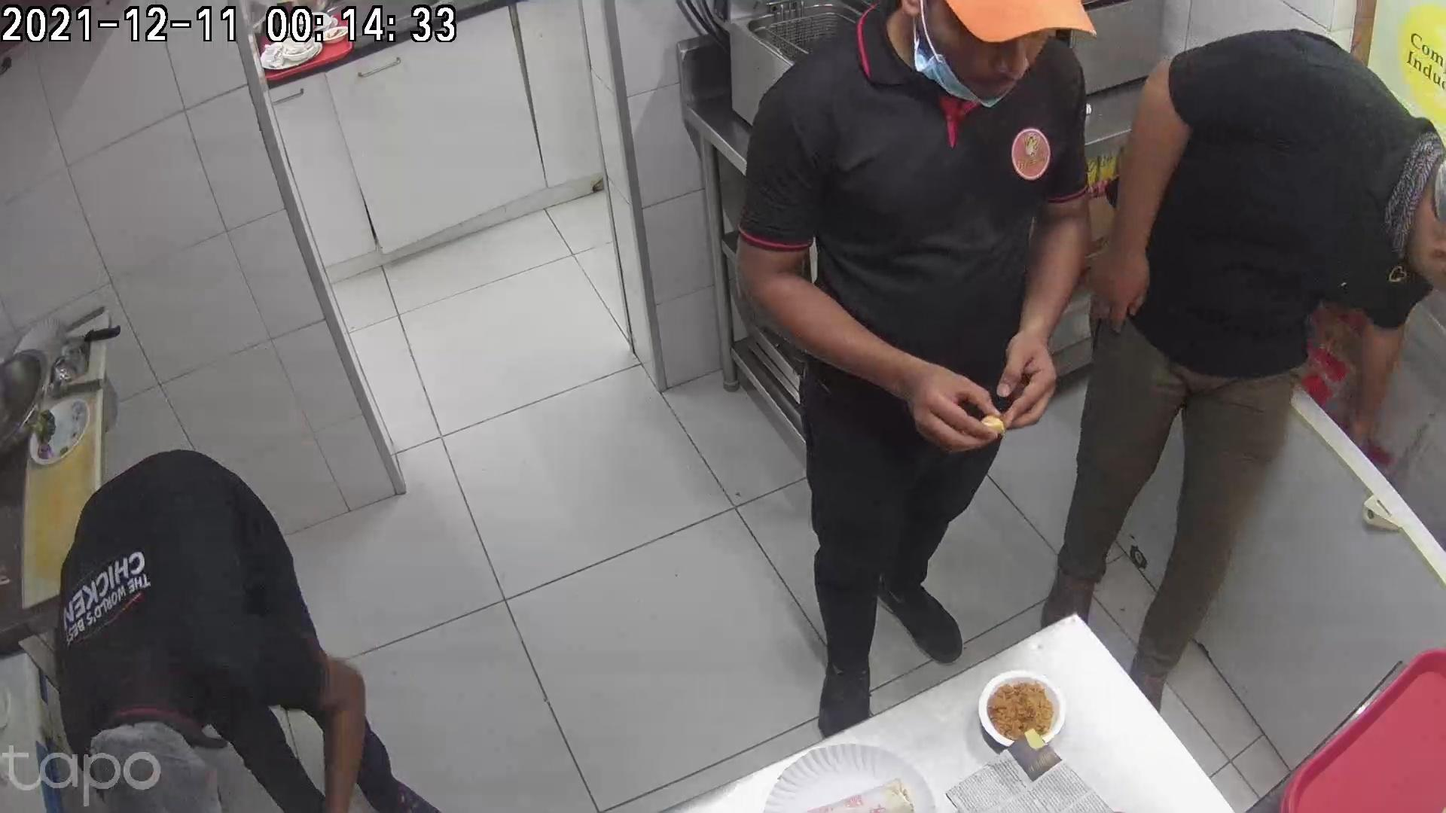no_gloves: (884, 352, 995, 448), (1001, 321, 1061, 424)
